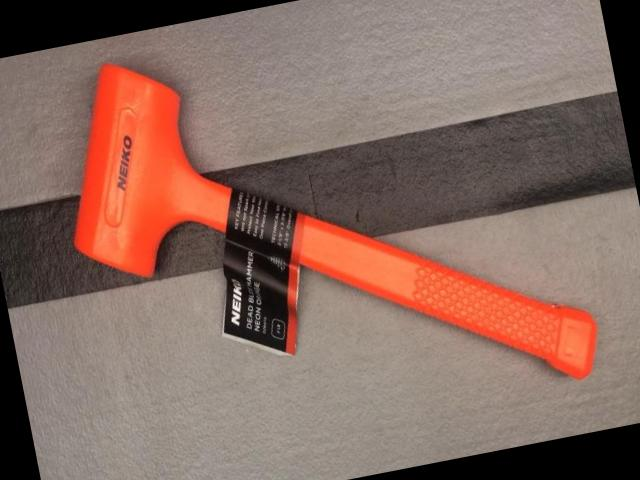hammer: (40, 0, 606, 468)
